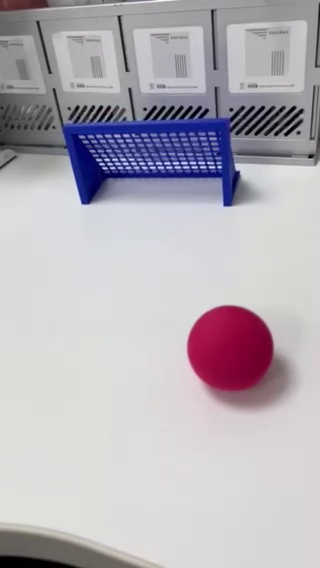goal: (54, 103, 241, 207)
redball: (184, 304, 274, 394)
